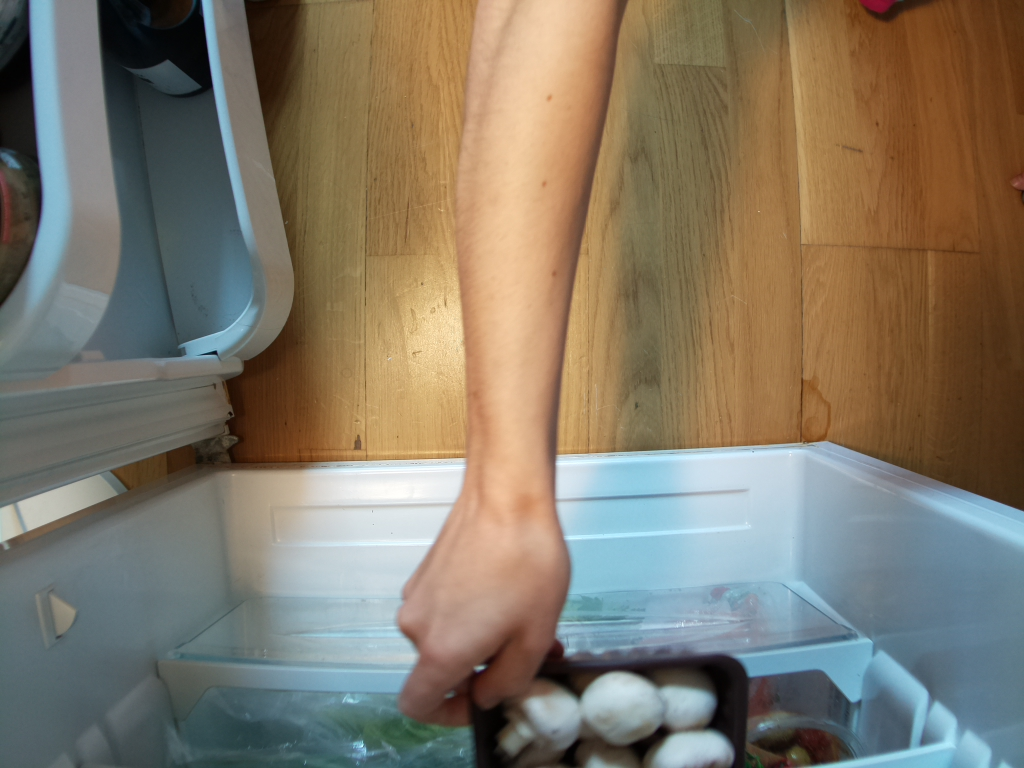mushrooms: (459, 649, 755, 768)
